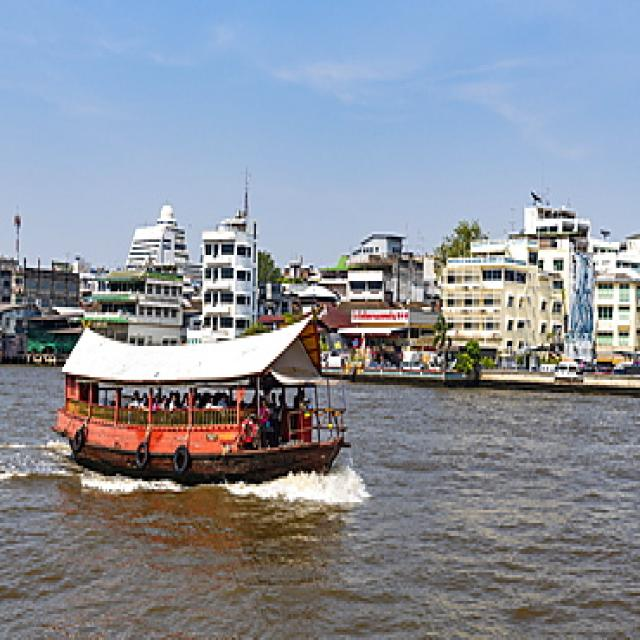houseboat: (57, 303, 339, 487)
